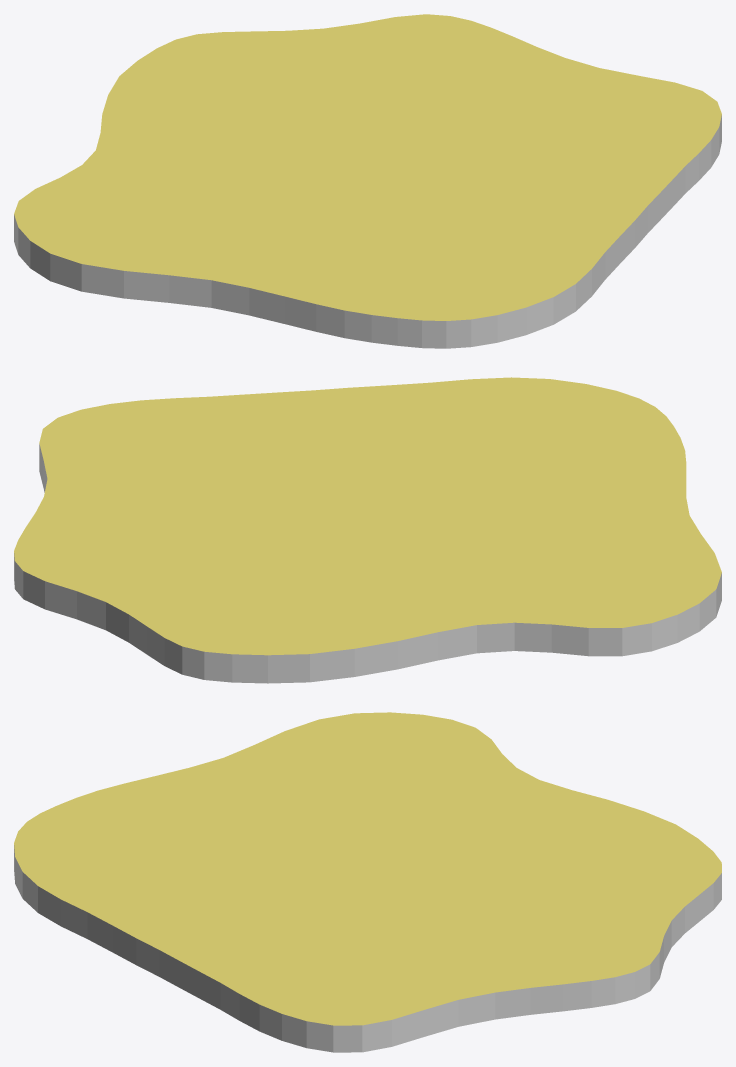
Rendered from Ground.fbx.
3 views of the same model, one above another, from view 1: azimuth 30°, elevation 25°; view 2: azimuth 150°, elevation 25°; view 3: azimuth 270°, elevation 25° (orthographic). The views are drawn at different scales.
Parts seen in each view (by area): view 1: Cylinder; view 2: Cylinder; view 3: Cylinder.
Part boxes in pixels (x1,y1,x2,y2): Cylinder: (14,14,721,348); Cylinder: (14,377,721,683); Cylinder: (14,712,721,1052).
Bounding box in the file's own units: 2937 × 118 × 2806.
